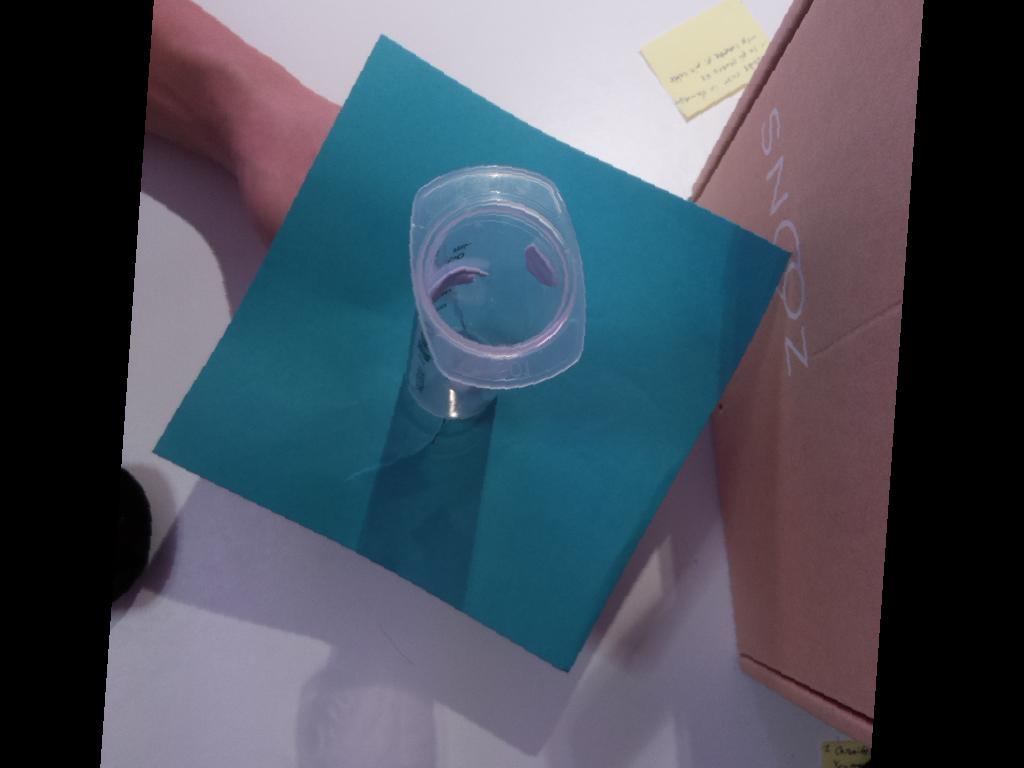dirty: (409, 166, 589, 393)
